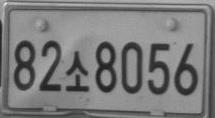0: (120, 40, 143, 95)
2: (38, 39, 62, 92)
5: (147, 42, 170, 96)
6: (173, 43, 199, 96)
8: (12, 39, 36, 92), (94, 40, 117, 93)
소: (64, 51, 90, 91)
